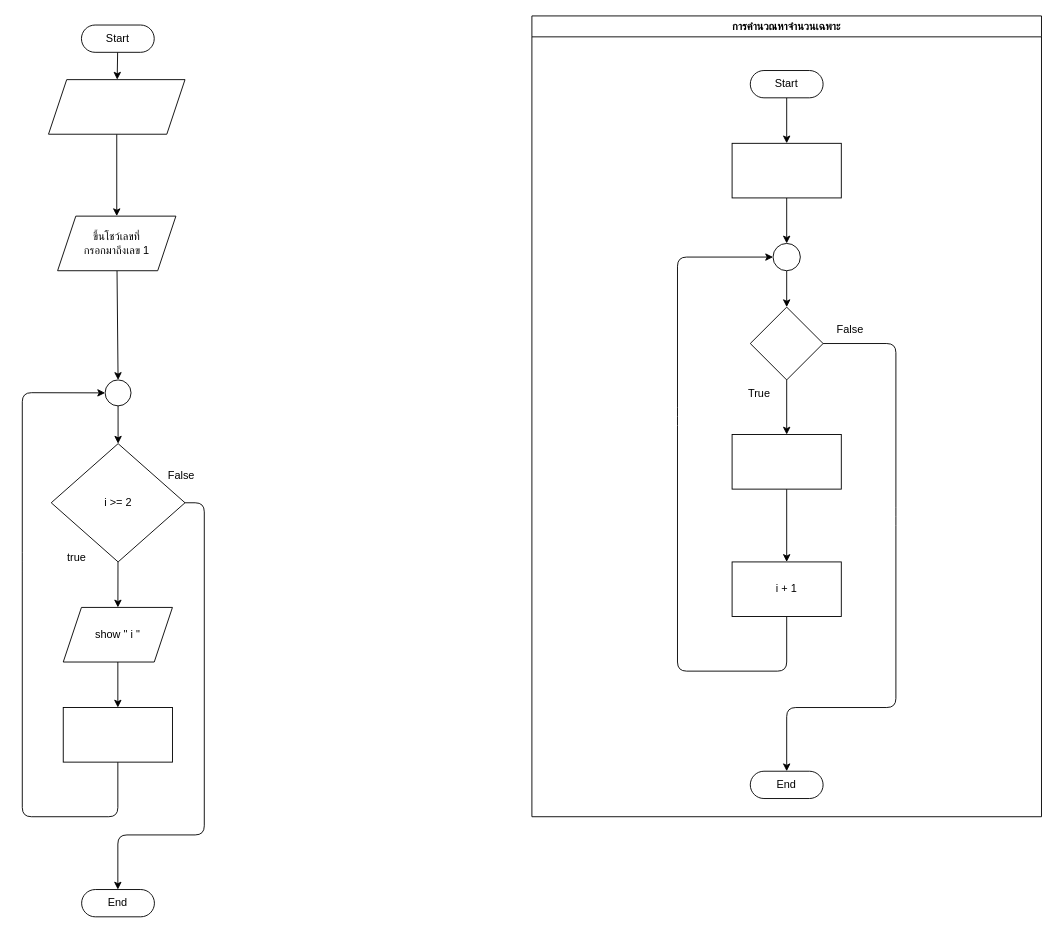
Image size: 1057x933. Some labels were removed from this diagram. Each missing label, with the centre of its shape:
i -1: point (117, 734)
i < n: point (786, 343)
i = 2: point (786, 170)
num % i = 0: point (786, 461)
กรอกตัวเลข: point (116, 106)
